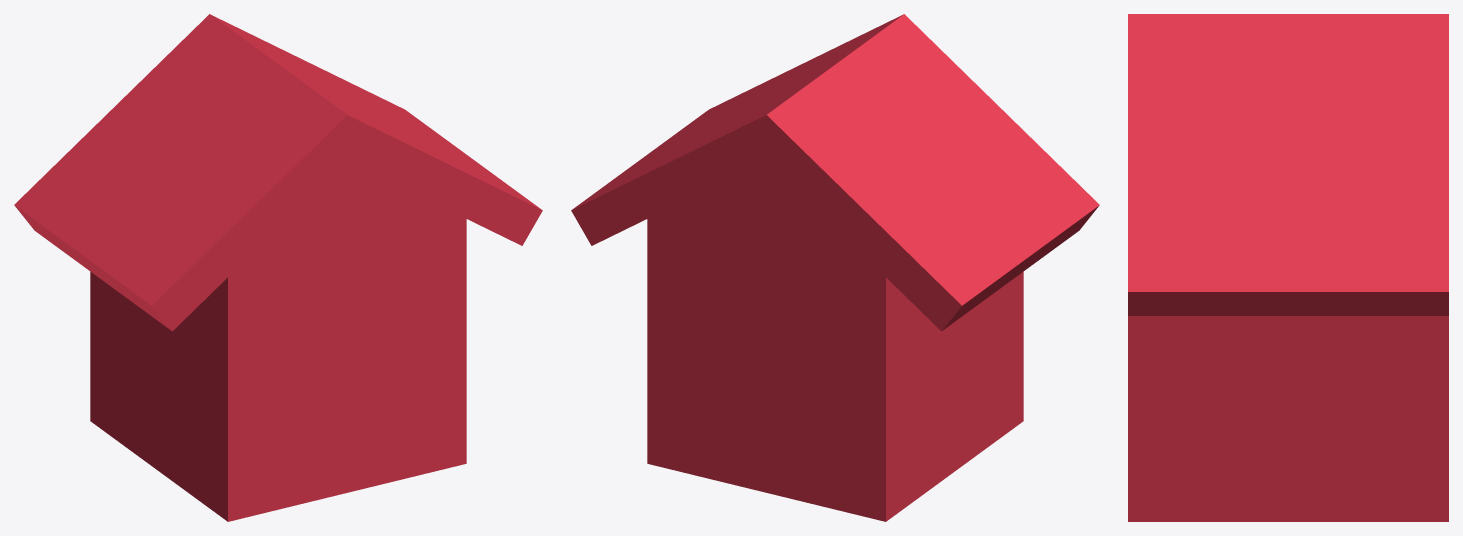
File: maison5.glb
The picture shows the model from 3 angles, left to right: view 1: azimuth 30°, elevation 25°; view 2: azimuth 150°, elevation 25°; view 3: azimuth 270°, elevation 25°; orthographic projection. The views are drawn at different scales.
Parts seen in each view (by area): view 1: Cube.003; view 2: Cube.003; view 3: Cube.003.
Boxes of the visible parts, x1,y1,x2,y2 form: Cube.003: [14, 14, 542, 521]; Cube.003: [571, 14, 1099, 521]; Cube.003: [1128, 14, 1448, 521].
Size of the model in its own units: 0.5734 by 0.5296 by 0.35.
